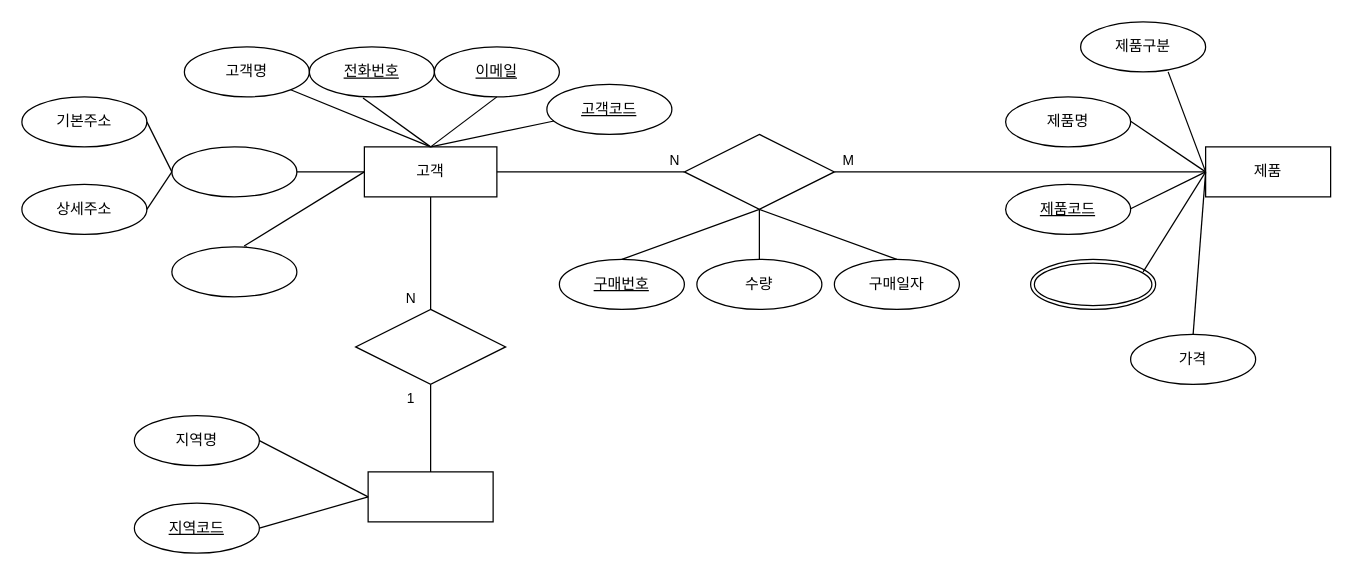
This 1353x575 diagram has some shape labels left out. Each missing label, with the centre of its shape:
"가입일" goes at (234,271).
"관리" goes at (430,346).
"구매" goes at (758,171).
"제품색상" goes at (1092,283).
"주소" goes at (234,171).
"지역" goes at (430,496).
